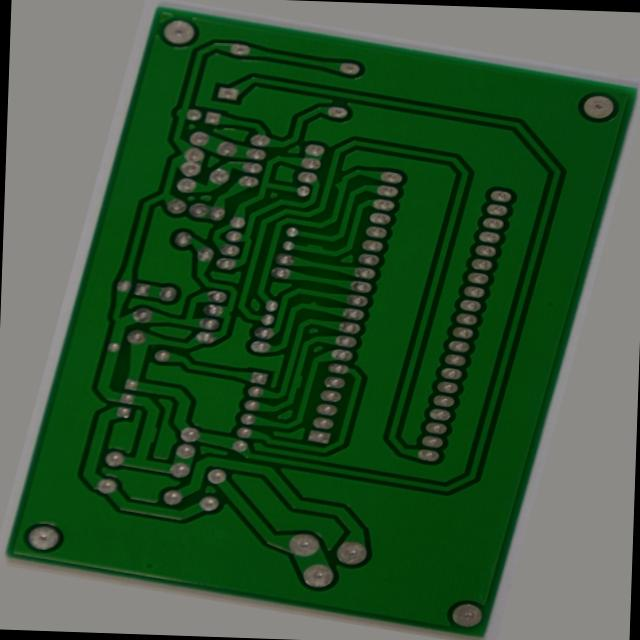spur: (136, 453, 158, 481), (298, 378, 318, 402), (277, 234, 307, 249), (297, 297, 318, 312), (295, 163, 311, 178)
